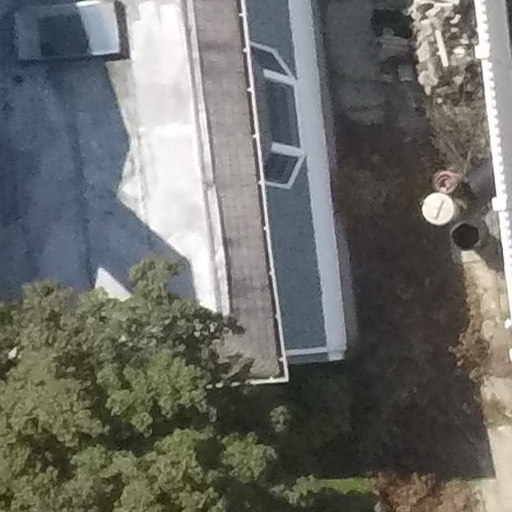container: (443, 214, 495, 257), (461, 157, 499, 199), (419, 188, 458, 227), (432, 168, 465, 191)
trash: (401, 1, 481, 108)
